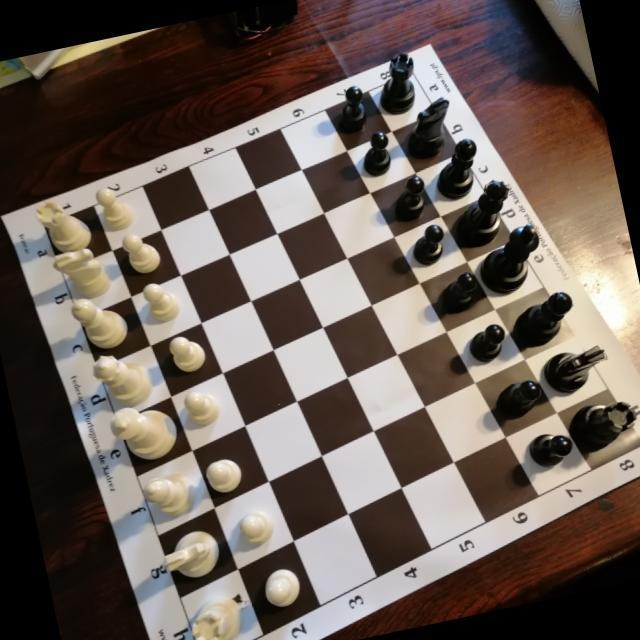black-bishop: (427, 136, 486, 204), (514, 289, 579, 347)
black-king: (471, 220, 549, 299)
black-knight: (399, 94, 460, 162), (540, 342, 612, 398)
black-pawn: (526, 428, 576, 472), (465, 320, 511, 365), (389, 173, 431, 222), (356, 129, 396, 179), (333, 82, 371, 134), (408, 220, 450, 267), (438, 268, 482, 311), (499, 377, 545, 418)
black-queen: (451, 175, 521, 250)
black-rook: (570, 395, 640, 453), (370, 49, 424, 118)
white-bishop: (68, 289, 131, 355), (139, 469, 200, 522)
white-king: (106, 397, 182, 467)
white-knight: (51, 243, 115, 304), (157, 526, 223, 584)
white-pawn: (93, 181, 137, 234), (120, 227, 163, 276), (140, 278, 183, 326), (261, 566, 303, 610), (235, 505, 277, 547), (167, 331, 208, 374), (182, 387, 222, 429), (203, 456, 245, 496)
white-queen: (89, 345, 159, 413)
white-rook: (33, 193, 95, 259), (184, 591, 248, 640)
